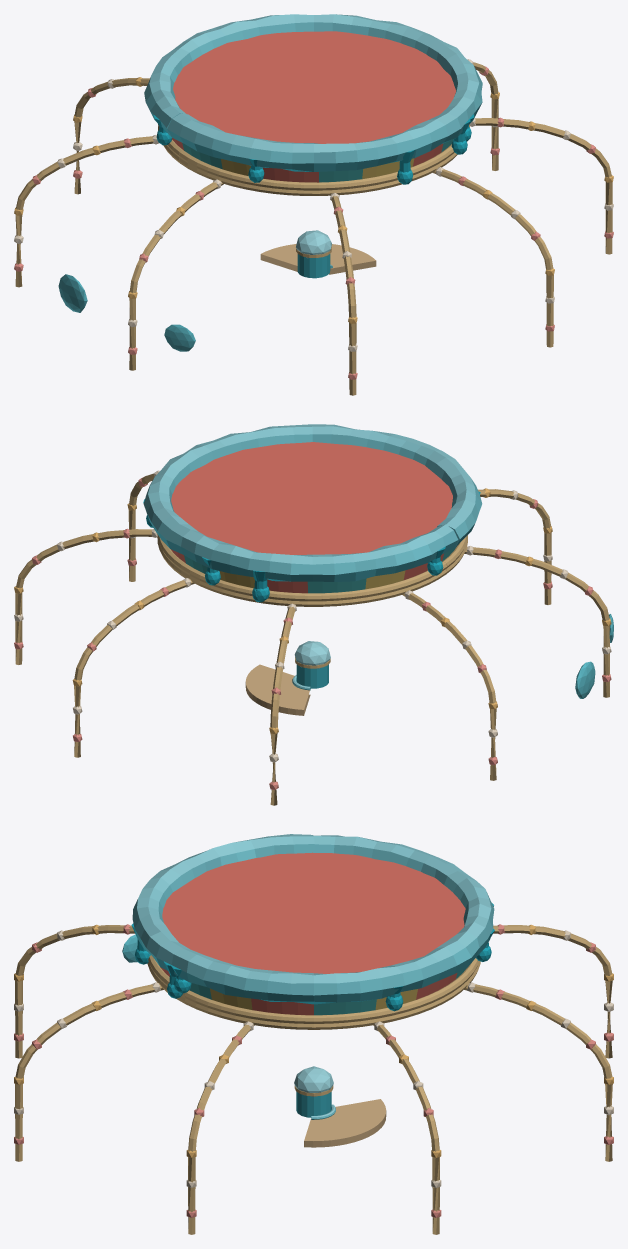
The model's file is goo_jar_trim_2_top@beach.fbx.
3 renders of one model, top to bottom at view 1: azimuth 30°, elevation 25°; view 2: azimuth 150°, elevation 25°; view 3: azimuth 270°, elevation 25°, orthographic. The views are drawn at different scales.
Visible parts, largest first — view 1: goo_jar_trim_2_top; view 2: goo_jar_trim_2_top; view 3: goo_jar_trim_2_top.
Part boxes in pixels (x1=…): goo_jar_trim_2_top: x1=14, y1=14, x2=613, y2=395; goo_jar_trim_2_top: x1=14, y1=424, x2=613, y2=805; goo_jar_trim_2_top: x1=14, y1=834, x2=613, y2=1234.
Size of the model in its own units: 53.19 by 20.05 by 51.07.
